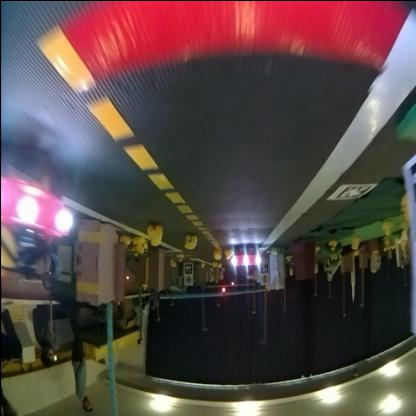Duckie: (147, 226, 162, 246), (184, 234, 197, 249), (383, 221, 393, 235), (133, 238, 145, 249), (328, 240, 336, 250), (215, 252, 221, 260), (225, 251, 231, 259), (177, 254, 182, 262)
Duckiebot: (2, 160, 74, 278), (232, 245, 260, 273)
Intersection sign: (184, 276, 192, 284)
QR code: (326, 185, 376, 201)
Traffic light: (230, 280, 234, 287)
